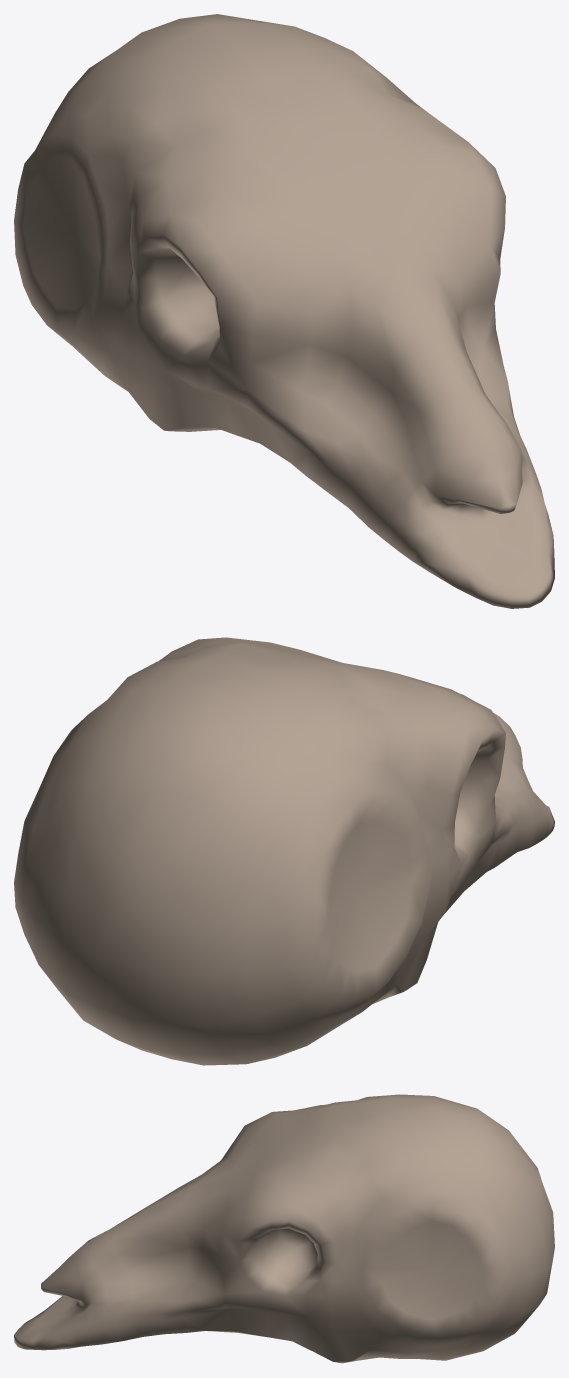
File: separatedPieces06_skull.fbx
3 views of the same model, one above another, from view 1: azimuth 30°, elevation 25°; view 2: azimuth 150°, elevation 25°; view 3: azimuth 270°, elevation 25° (orthographic). The views are drawn at different scales.
Parts seen in each view (by area): view 1: skull_LOD0; view 2: skull_LOD0; view 3: skull_LOD0.
Boxes of the visible parts, x1=… form: skull_LOD0: x1=14, y1=14, x2=554, y2=608; skull_LOD0: x1=14, y1=637, x2=554, y2=1065; skull_LOD0: x1=14, y1=1094, x2=554, y2=1363.
Bounding box in the file's own units: 38.19 × 39.27 × 81.07.
